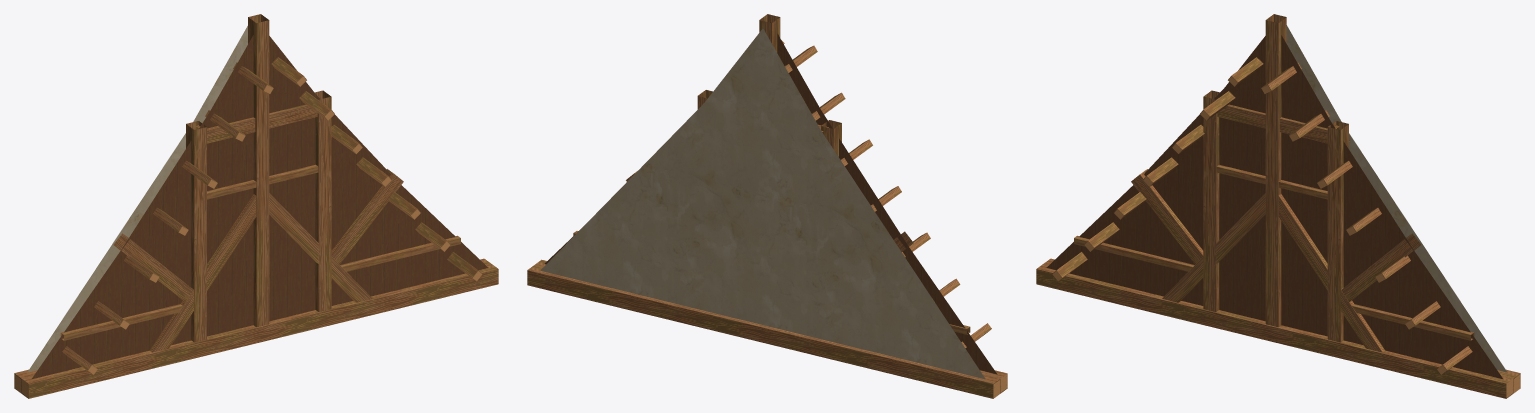
File: Roof_Front_Wood8.gltf
3 views of the same model, side by side, from view 1: azimuth 30°, elevation 25°; view 2: azimuth 150°, elevation 25°; view 3: azimuth 330°, elevation 25° (orthographic).
Parts seen in each view (by area): view 1: Roof_Front_Wood8; view 2: Roof_Front_Wood8; view 3: Roof_Front_Wood8.
Boxes of the visible parts, <box> form: Roof_Front_Wood8: <box>14,14,498,398</box>; Roof_Front_Wood8: <box>527,14,1007,398</box>; Roof_Front_Wood8: <box>1036,14,1520,398</box>.
Size of the model in its own units: 8.51 by 5.53 by 1.13.
Materials: 2 (2 with a texture image).
